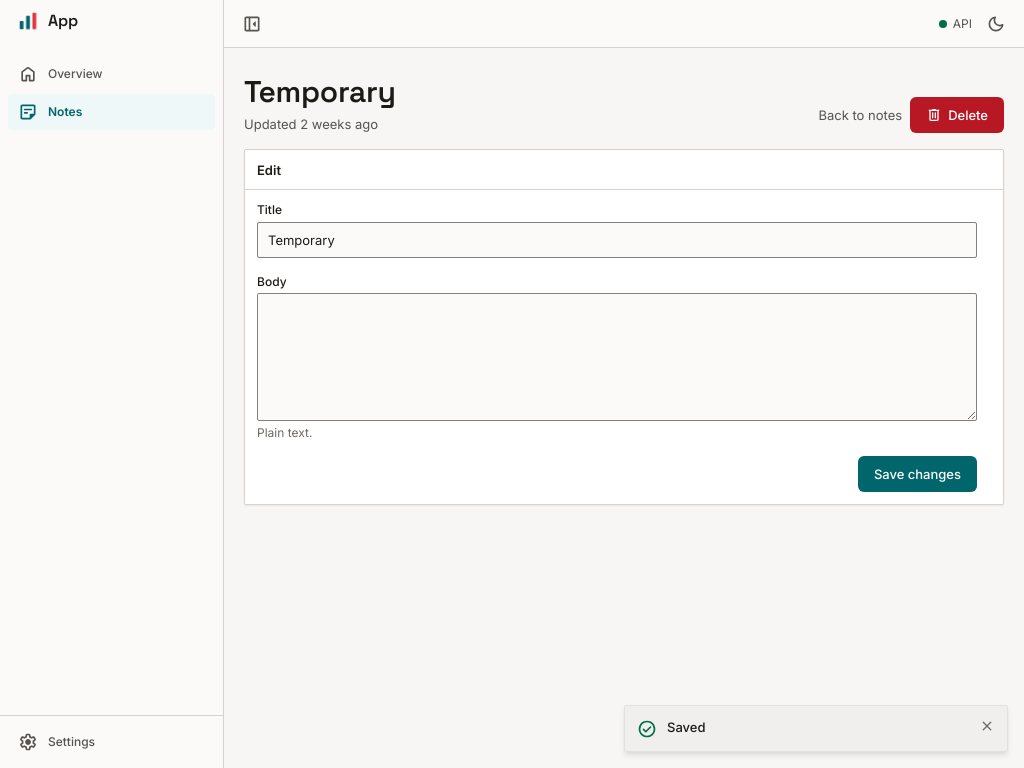
note page › deletes a note after confirmation and returns to the list
Click the button "Delete": (957,115) [910, 97, 1004, 133]
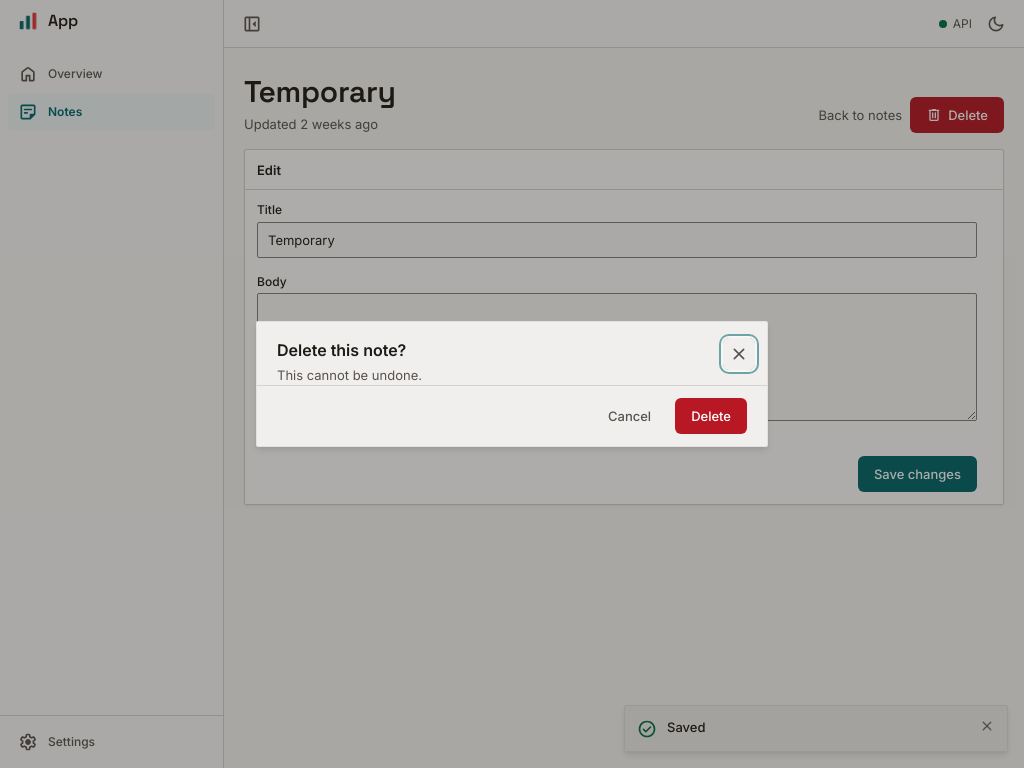
Click the button "Delete": (711,416) [675, 398, 747, 434]
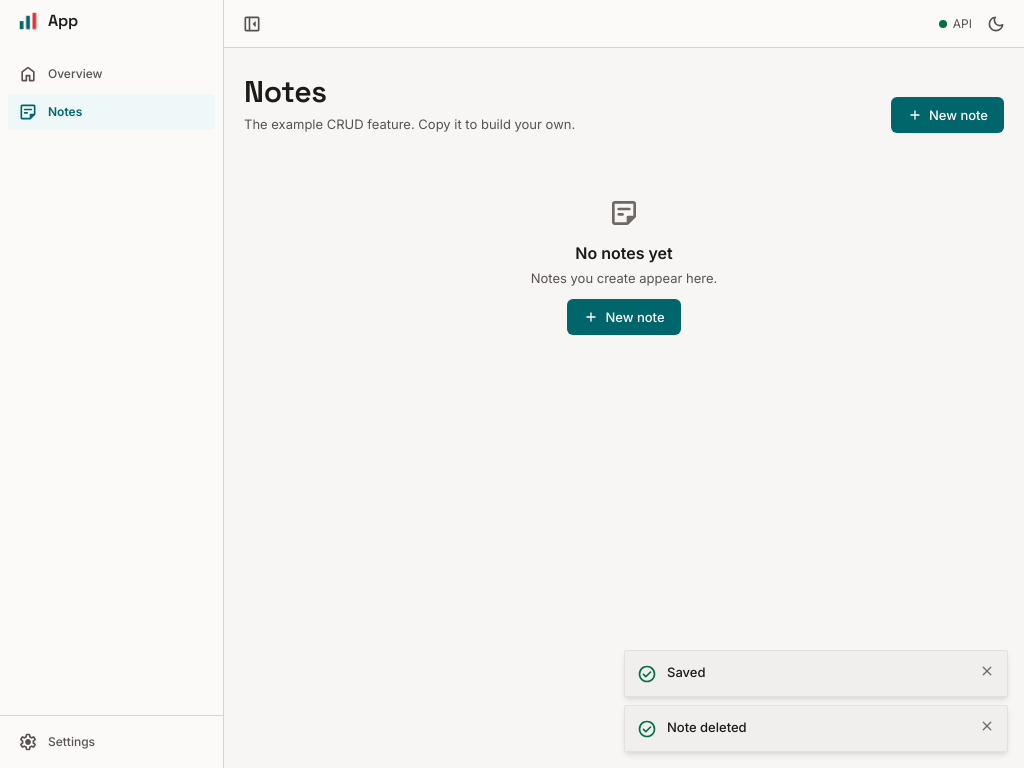
Result: the heading "No notes yet" is shown at [575, 243, 673, 263]
